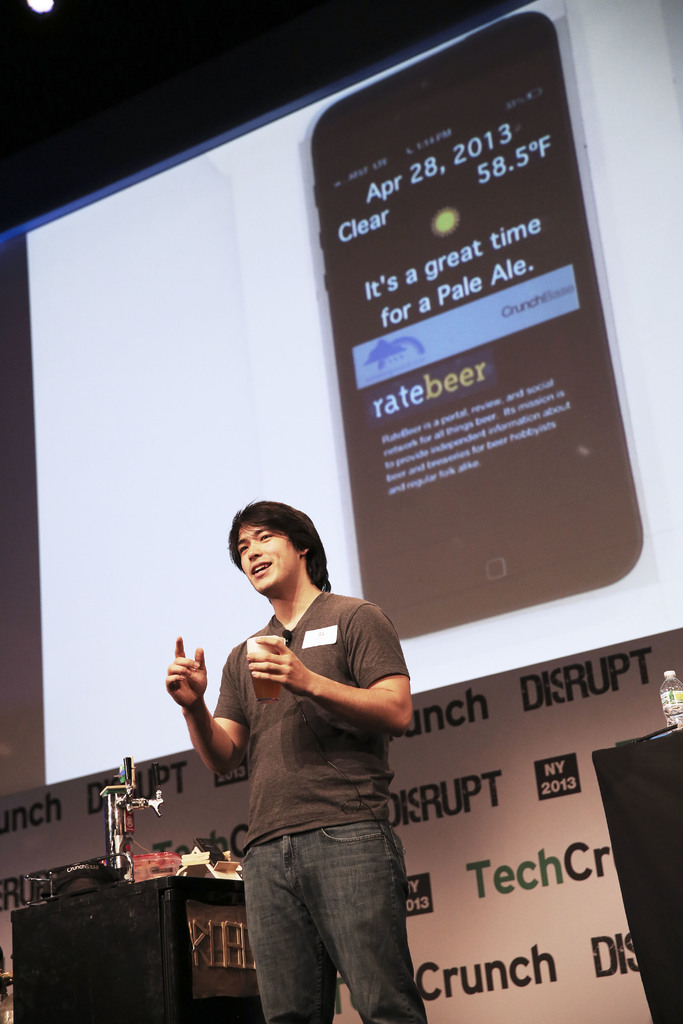Mobile-phone: (295, 8, 653, 643)
